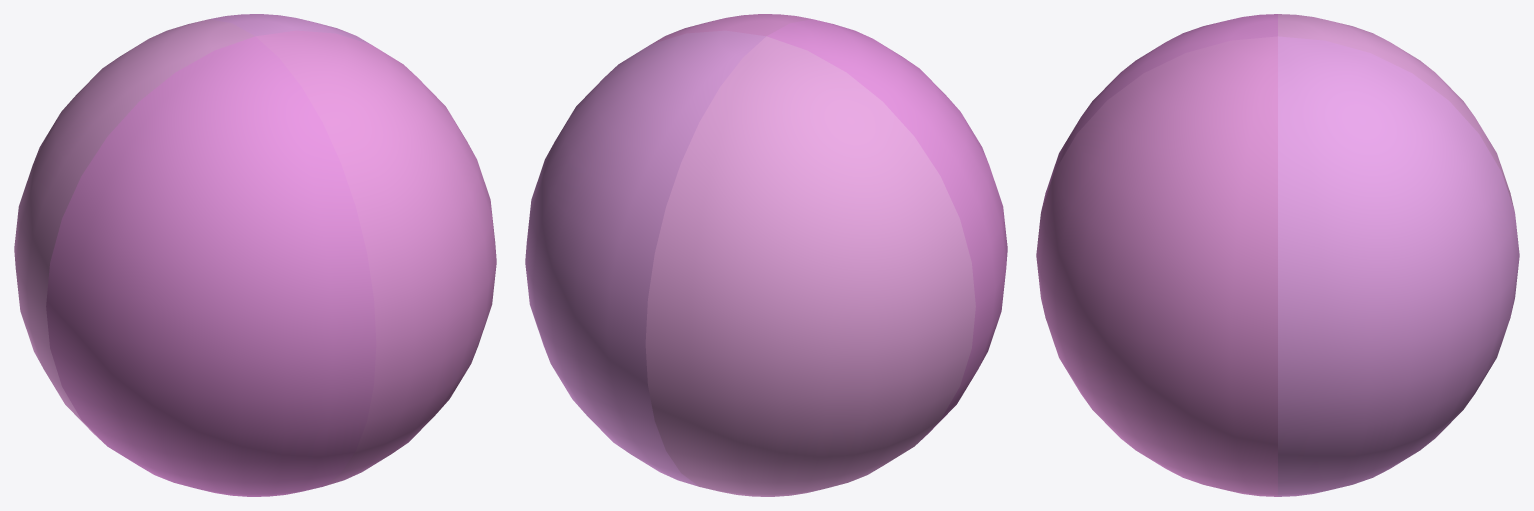
Rendered from m-heal.glb.
3 renders of one model, left to right at view 1: azimuth 30°, elevation 25°; view 2: azimuth 150°, elevation 25°; view 3: azimuth 270°, elevation 25°, orthographic.
Visible parts, largest first — view 1: 球.001, 球, 球.002, 球.003; view 2: 球.002, 球.003, 球.001, 球; view 3: 球, 球.003, 球.001, 球.002.
Boxes of the visible parts, x1,y1,x2,y2 form: 球.001: [46, 36, 376, 496]; 球: [256, 30, 496, 486]; 球.002: [14, 19, 254, 443]; 球.003: [209, 14, 370, 44]; 球.002: [645, 36, 975, 496]; 球.003: [525, 30, 765, 486]; 球.001: [767, 19, 1007, 443]; 球: [651, 14, 812, 44]; 球: [1036, 36, 1277, 496]; 球.003: [1278, 36, 1519, 496]; 球.001: [1041, 14, 1277, 210]; 球.002: [1278, 14, 1514, 210].
Size of the model in its own units: 13.49 by 13.49 by 13.49.
